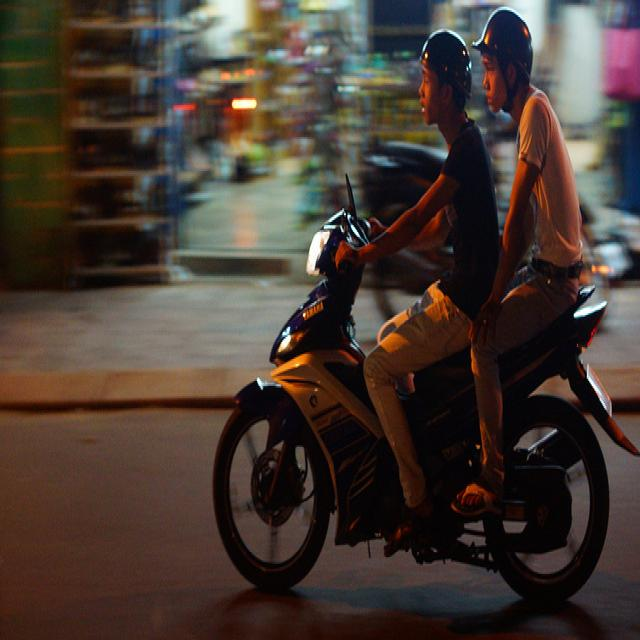Motorbike: (196, 167, 610, 615)
People: (329, 21, 500, 530), (464, 5, 606, 565)
